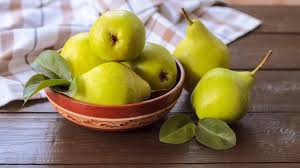pear: (186, 67, 258, 128), (62, 64, 154, 105)
